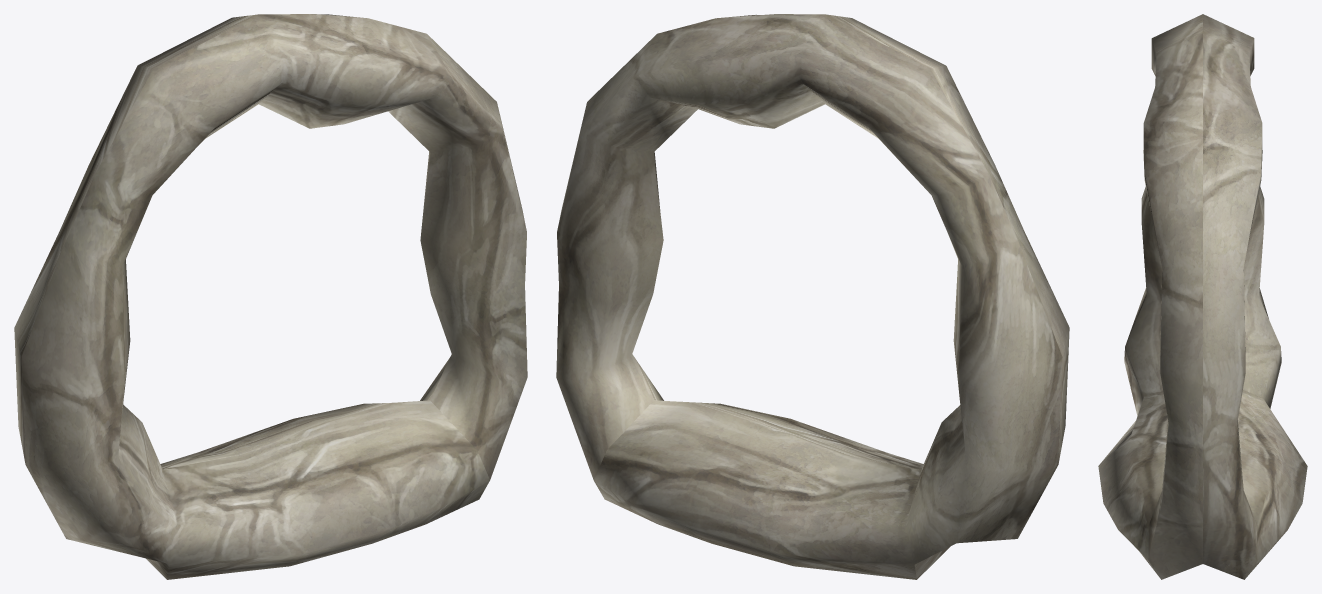
The model's file is cave border.FBX.
The picture shows the model from 3 angles, left to right: view 1: azimuth 30°, elevation 25°; view 2: azimuth 150°, elevation 25°; view 3: azimuth 270°, elevation 25°; orthographic projection. The views are drawn at different scales.
Parts seen in each view (by area): view 1: cave border; view 2: cave border; view 3: cave border.
Boxes of the visible parts, x1,y1,x2,y2 form: cave border: (14, 14, 527, 579); cave border: (556, 14, 1069, 579); cave border: (1098, 14, 1307, 579).
Size of the model in its own units: 20.91 by 20.59 by 8.48.
